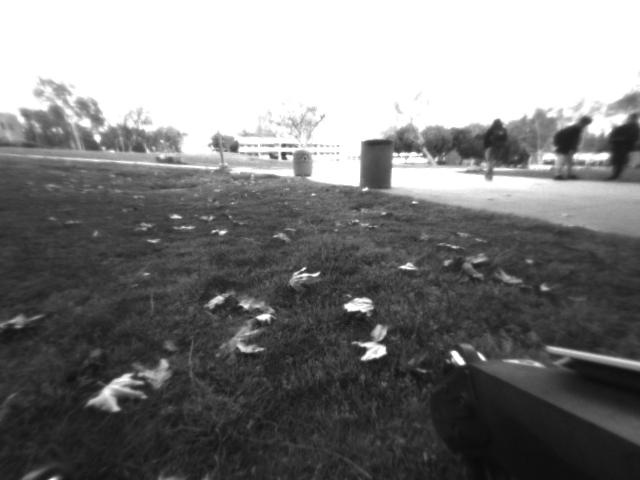trashcan: (356, 139, 393, 194), (292, 148, 318, 181)
